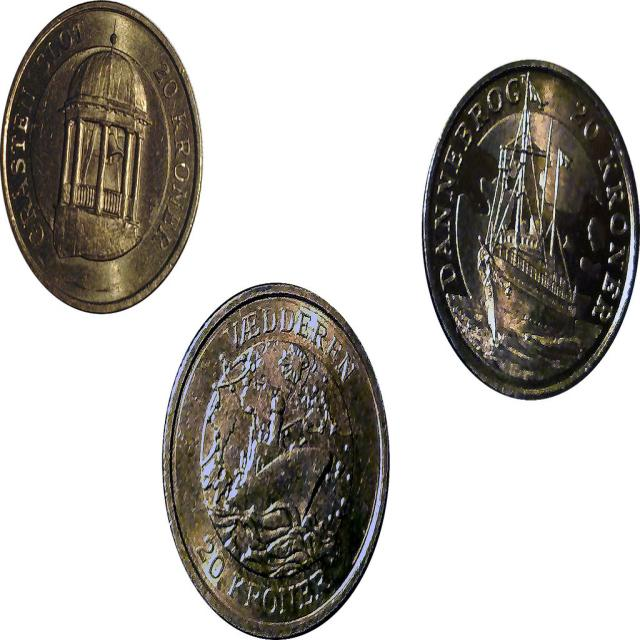Coin: (162, 281, 389, 639), (421, 57, 640, 402), (0, 0, 203, 316)
